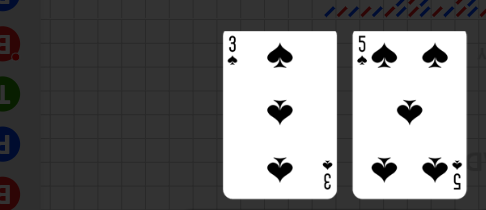3S: (226, 35, 240, 68)
5S: (451, 157, 463, 191)
